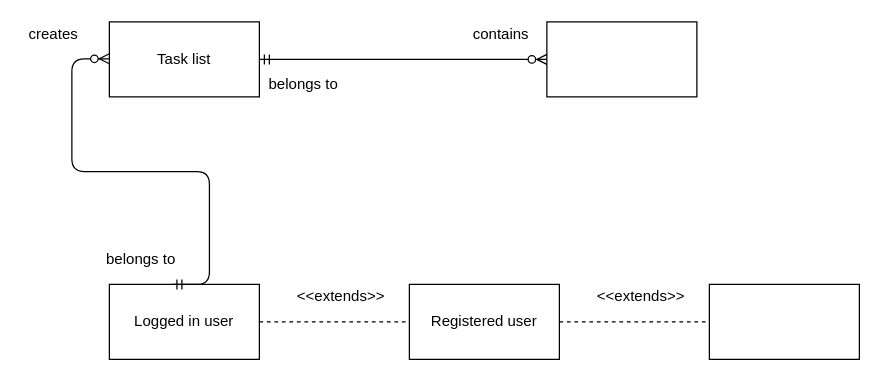
This 881x381 diagram has some shape labels left out. Each missing label, with the box of its shape:
Guest: (708, 283, 859, 359)
Task: (546, 21, 697, 97)
